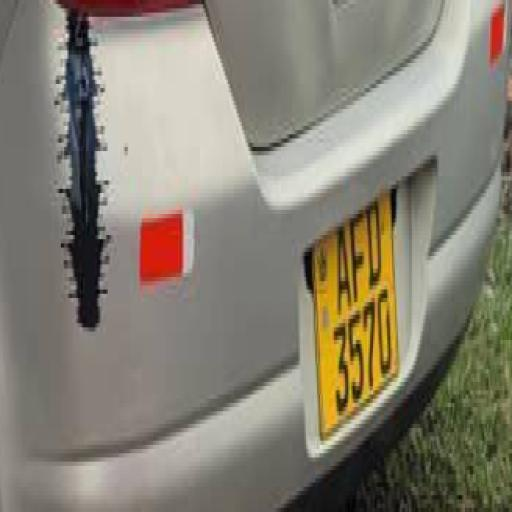number-plates: (312, 201, 402, 413)
